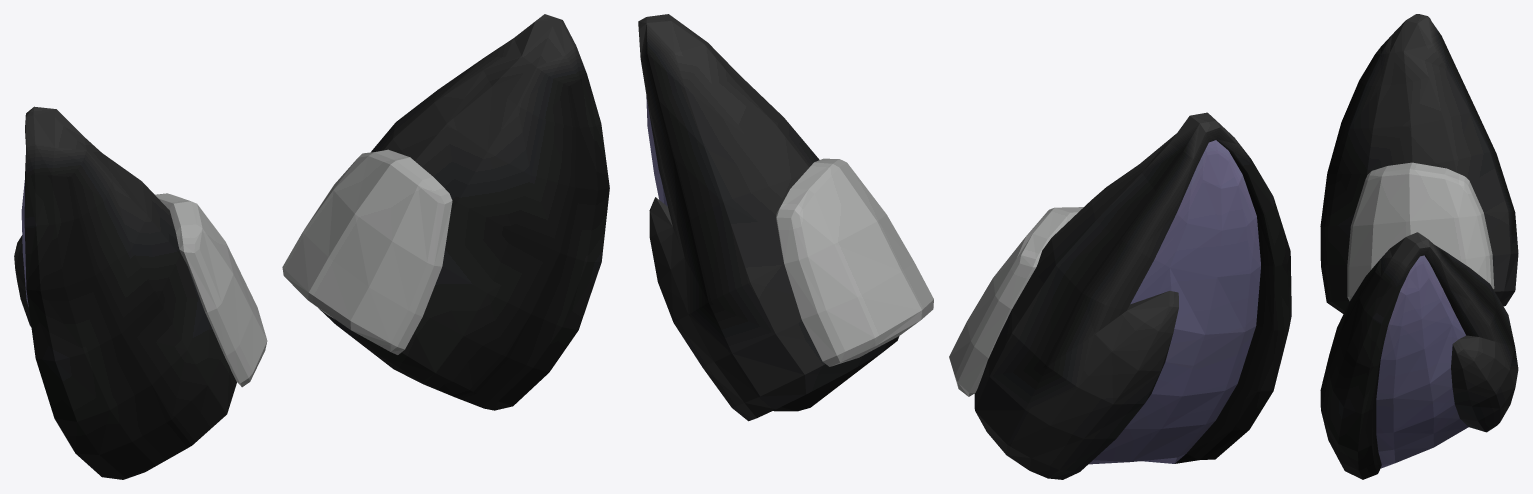
Rendered from CharSkyKid_Hat_MischiefCatEars.glb.
The picture shows the model from 3 angles, left to right: view 1: azimuth 30°, elevation 25°; view 2: azimuth 150°, elevation 25°; view 3: azimuth 270°, elevation 25°; orthographic projection. The views are drawn at different scales.
Parts seen in each view (by area): view 1: CharSkyKid_Hat_MischiefCatEars; view 2: CharSkyKid_Hat_MischiefCatEars; view 3: CharSkyKid_Hat_MischiefCatEars.
Part boxes in pixels (x1,y1,x2,y2): CharSkyKid_Hat_MischiefCatEars: [14, 14, 609, 479]; CharSkyKid_Hat_MischiefCatEars: [638, 14, 1291, 479]; CharSkyKid_Hat_MischiefCatEars: [1320, 14, 1518, 479].
Size of the model in its own units: 2.83 by 1.74 by 1.05.
Materials: 1 (1 with a texture image).
